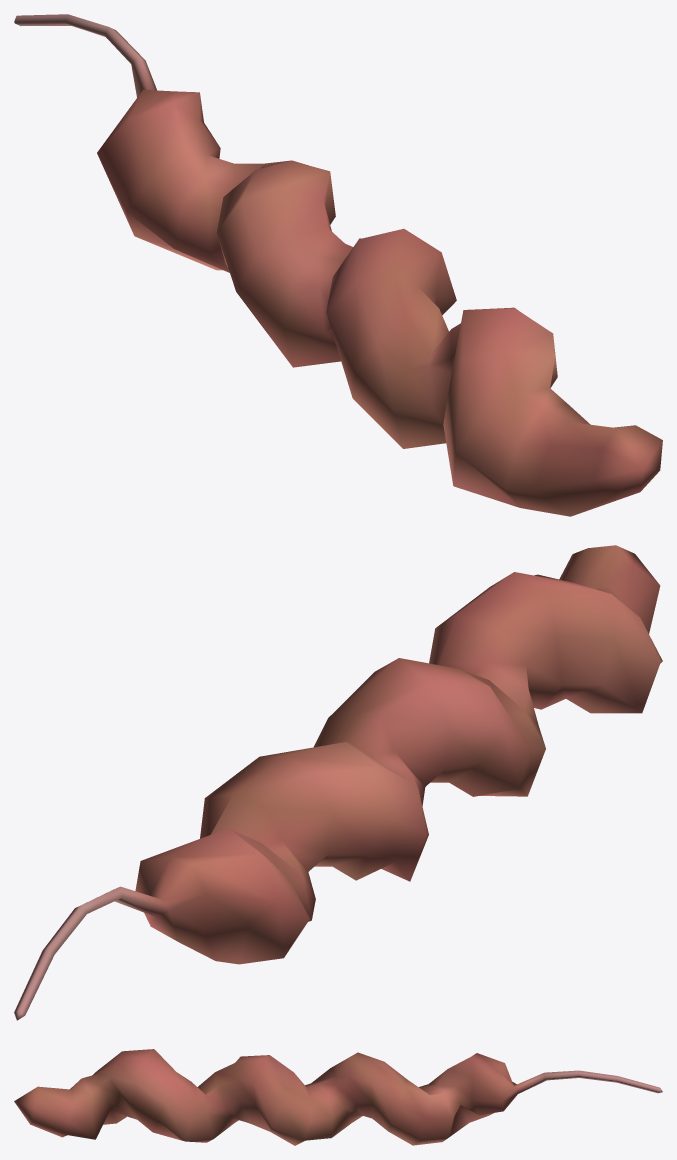
Rendered from microscopic-bacteria-wavy-bacterium_v1.glb.
3 renders of one model, top to bottom at view 1: azimuth 30°, elevation 25°; view 2: azimuth 150°, elevation 25°; view 3: azimuth 270°, elevation 25°, orthographic. The views are drawn at different scales.
Parts seen in each view (by area): view 1: Wavy Bacterium_v1; view 2: Wavy Bacterium_v1; view 3: Wavy Bacterium_v1.
Part boxes in pixels (x1,y1,x2,y2): Wavy Bacterium_v1: (14, 14, 662, 516); Wavy Bacterium_v1: (14, 545, 662, 1020); Wavy Bacterium_v1: (14, 1049, 662, 1145).
Size of the model in its own units: 0.0614 by 0.06 by 0.4.
